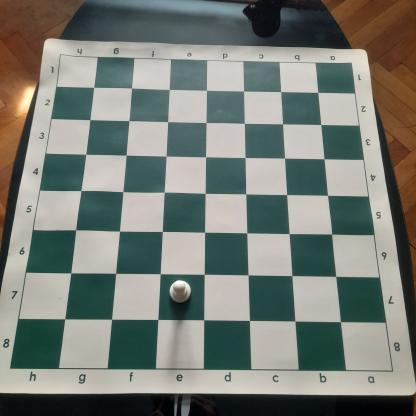white-pawn: (168, 277, 193, 305)
